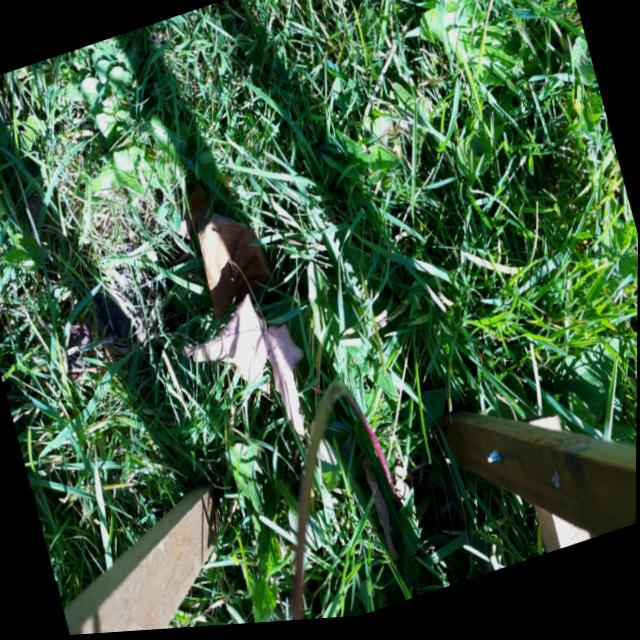base: (377, 478, 412, 527)
